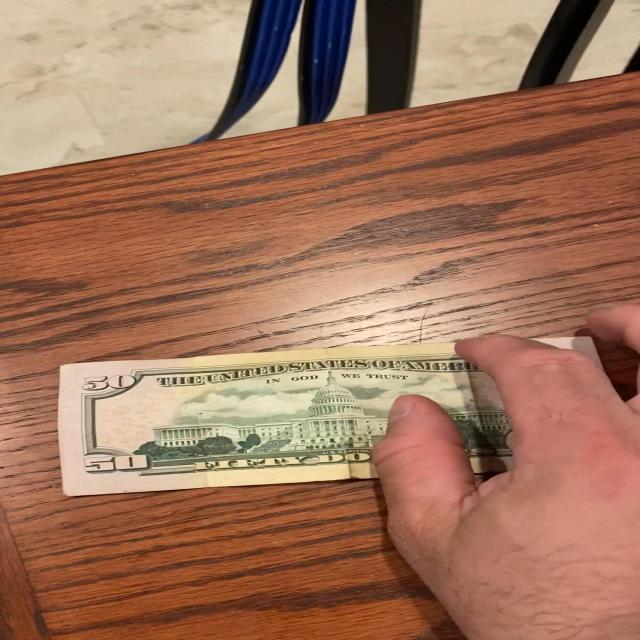50-Back: (47, 337, 612, 498)
